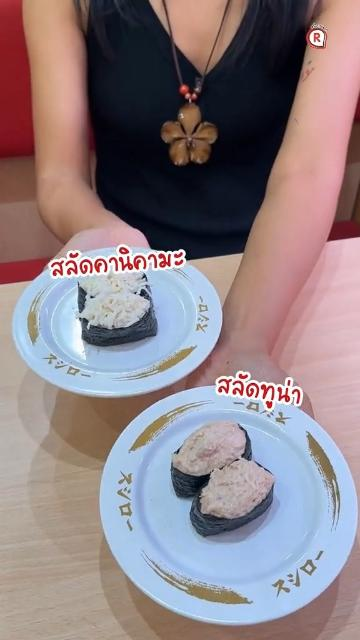janwhite: (75, 388, 360, 638), (27, 231, 234, 397)
